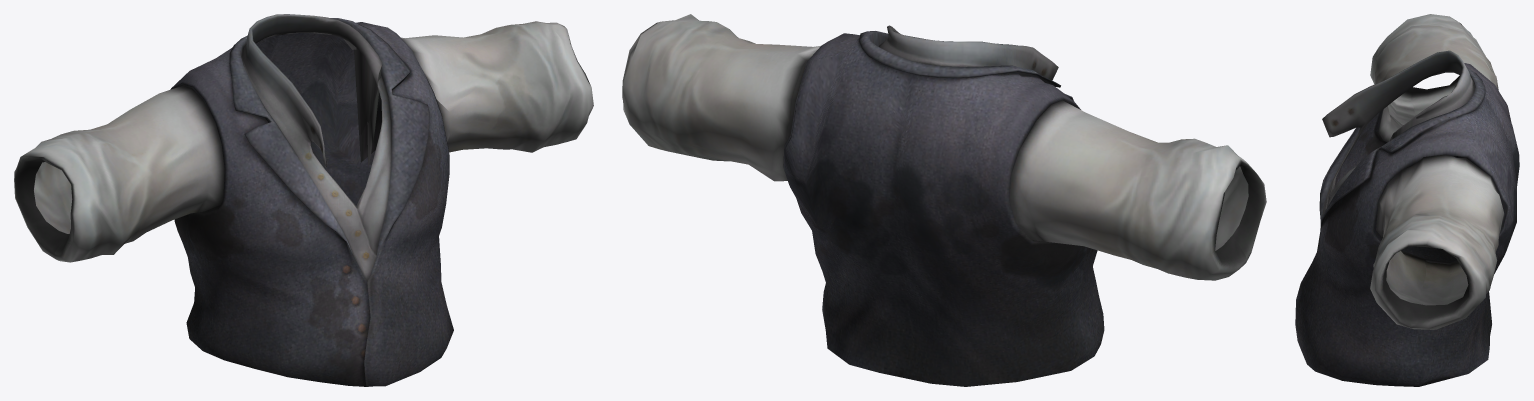
Rendered from Uth_Shirt_MshShape.obj.
3 views of the same model, side by side, from view 1: azimuth 30°, elevation 25°; view 2: azimuth 150°, elevation 25°; view 3: azimuth 270°, elevation 25° (orthographic). The views are drawn at different scales.
Visible parts, largest first — view 1: Uth_Shirt_Msh Uth_Body_Grp SkinnedMesh Mesh CharacterRoot; view 2: Uth_Shirt_Msh Uth_Body_Grp SkinnedMesh Mesh CharacterRoot; view 3: Uth_Shirt_Msh Uth_Body_Grp SkinnedMesh Mesh CharacterRoot.
Boxes of the visible parts, <box> form: Uth_Shirt_Msh Uth_Body_Grp SkinnedMesh Mesh CharacterRoot: <box>14,14,593,386</box>; Uth_Shirt_Msh Uth_Body_Grp SkinnedMesh Mesh CharacterRoot: <box>622,14,1266,386</box>; Uth_Shirt_Msh Uth_Body_Grp SkinnedMesh Mesh CharacterRoot: <box>1295,14,1519,386</box>.
Bounding box in the file's own units: 90.11 × 50.08 × 36.7.
1 material, 1 textured.
